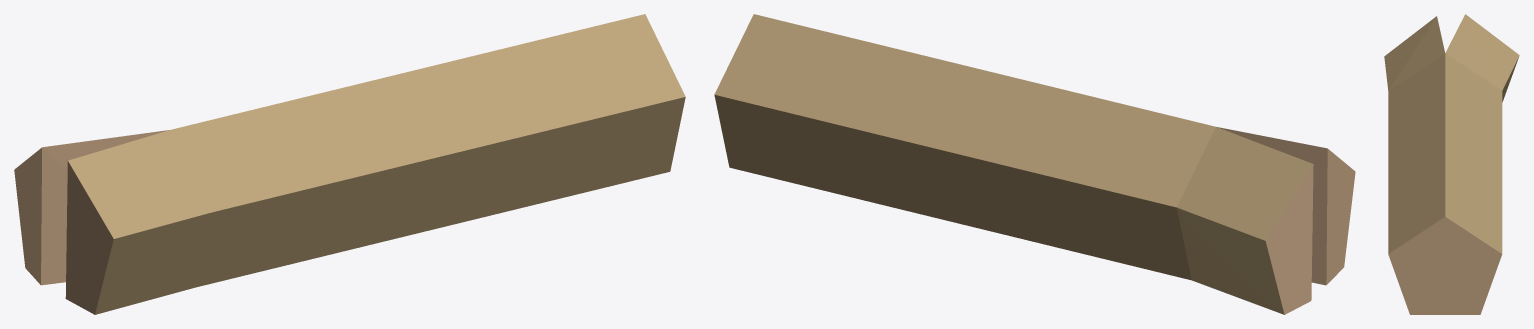
File: Acacia_Firewood_03.fbx
3 renders of one model, left to right at view 1: azimuth 30°, elevation 25°; view 2: azimuth 150°, elevation 25°; view 3: azimuth 270°, elevation 25°, orthographic. The views are drawn at different scales.
Visible parts, largest first — view 1: Acacia_Firewood_03; view 2: Acacia_Firewood_03; view 3: Acacia_Firewood_03.
Part boxes in pixels (bbox=[...]): Acacia_Firewood_03: bbox=[14, 14, 685, 314]; Acacia_Firewood_03: bbox=[714, 14, 1355, 314]; Acacia_Firewood_03: bbox=[1384, 14, 1519, 314].
Size of the model in its own units: 55.51 by 12.56 by 15.68.
